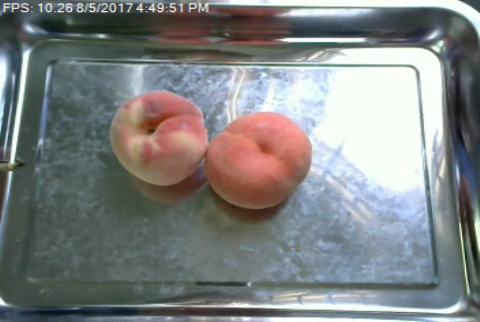Peach: (202, 112, 313, 208), (110, 89, 208, 187)
